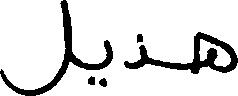X: (0, 0, 71, 95), (195, 27, 237, 78), (125, 29, 146, 73), (102, 35, 112, 91)
